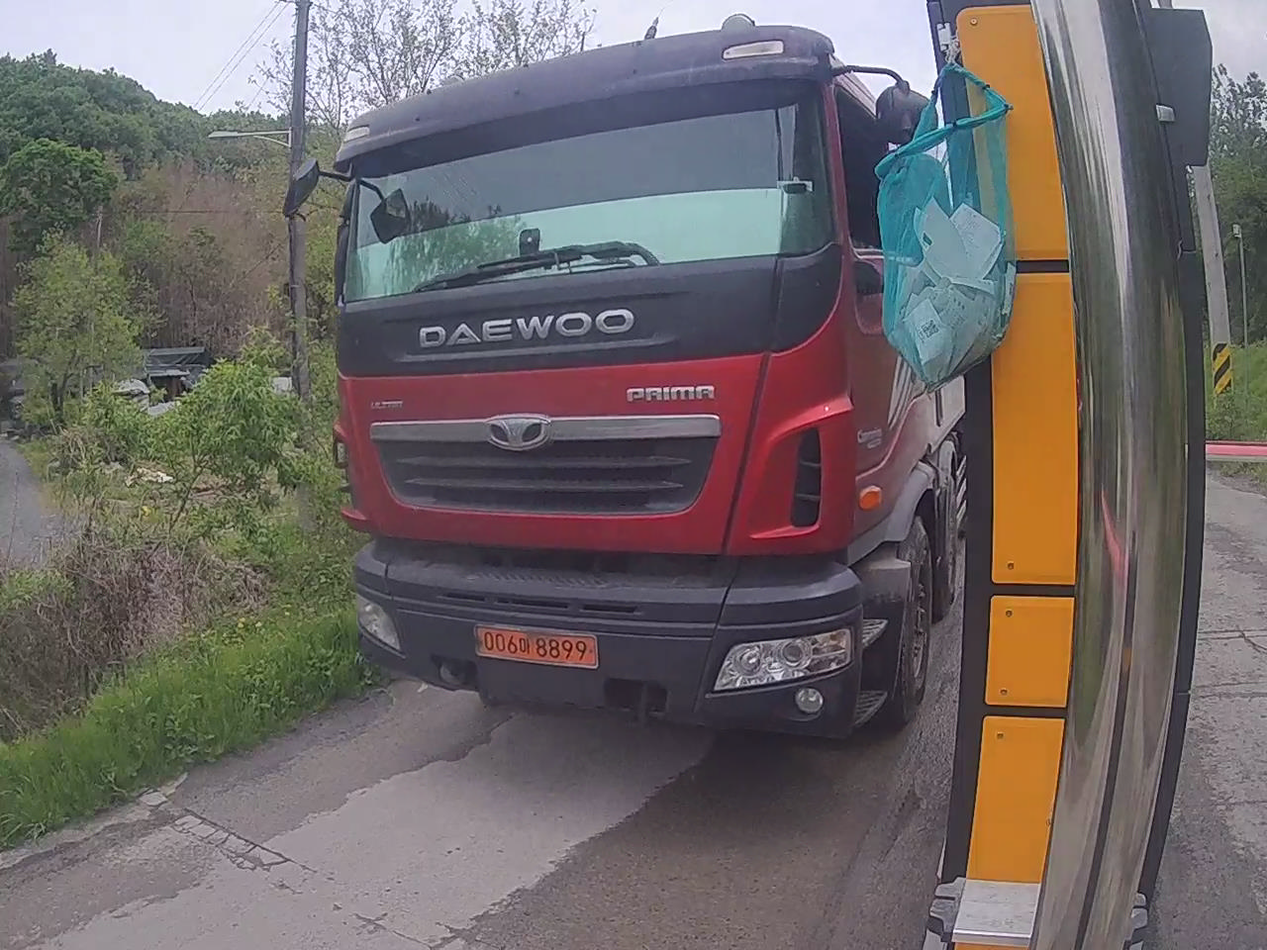license_plate: (478, 627, 596, 668)
truck: (287, 17, 963, 737)
